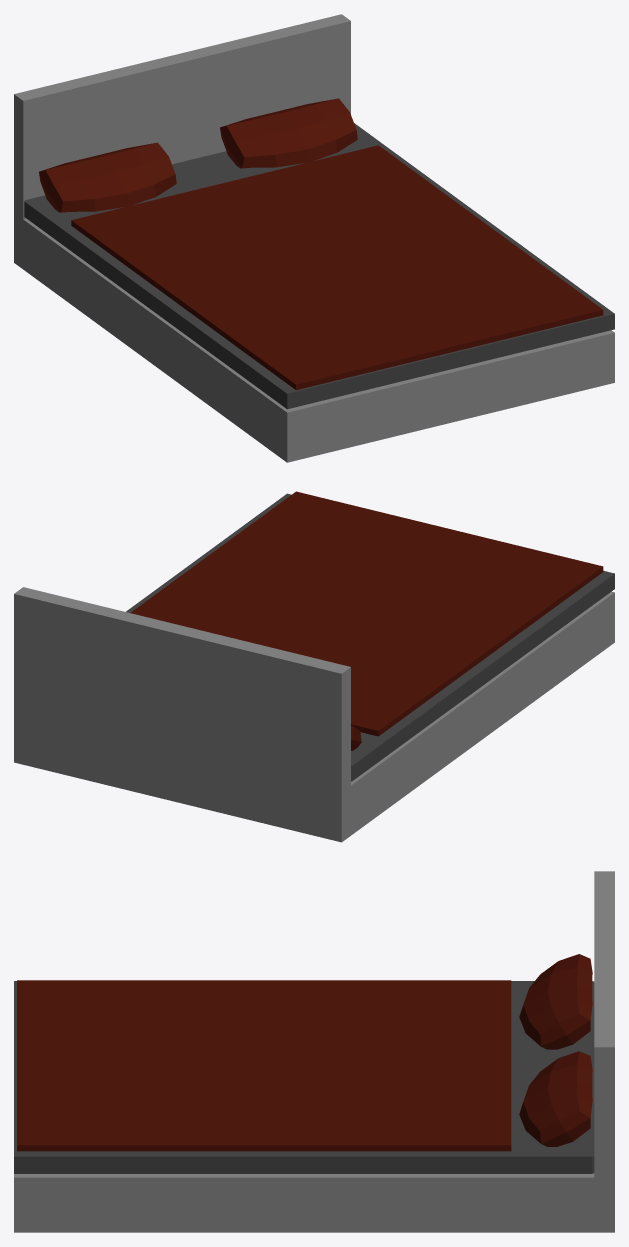
Rendered from Elternbett.fbx.
3 views of the same model, one above another, from view 1: azimuth 30°, elevation 25°; view 2: azimuth 150°, elevation 25°; view 3: azimuth 270°, elevation 25° (orthographic). The views are drawn at different scales.
Parts seen in each view (by area): view 1: Cube.002; view 2: Cube.002; view 3: Cube.002.
Boxes of the visible parts, <box> form: Cube.002: <box>14,14,614,462</box>; Cube.002: <box>14,491,614,842</box>; Cube.002: <box>14,871,614,1232</box>.
Size of the model in its own units: 303 by 149 by 437.
